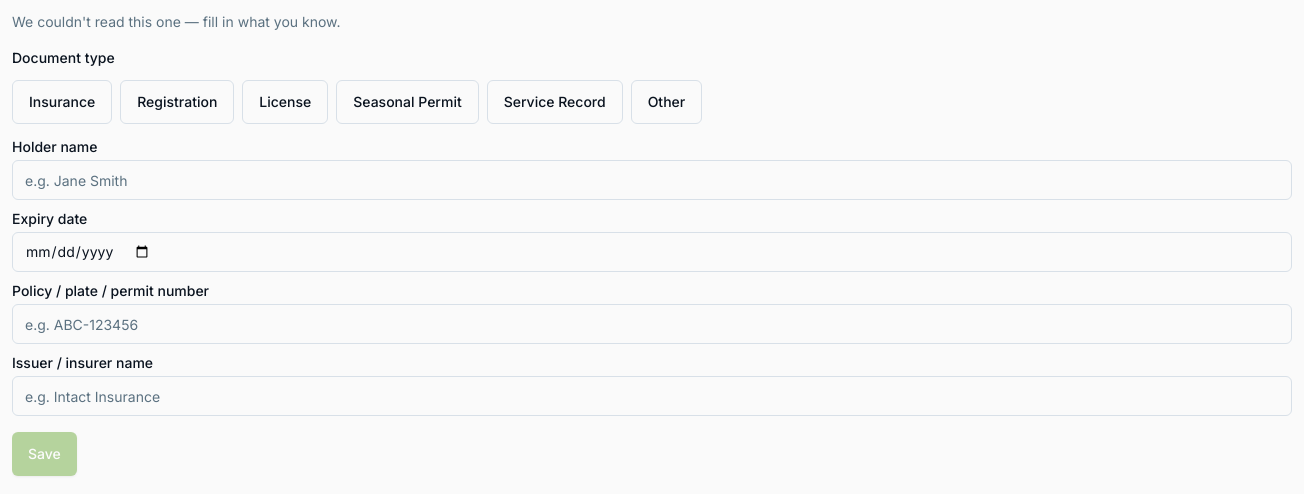
Test: ManualEntryForm › Save is enabled after a type is selected
This screenshot has width=1304, height=494.
Click the button "Insurance": (62, 102) [12, 80, 112, 124]
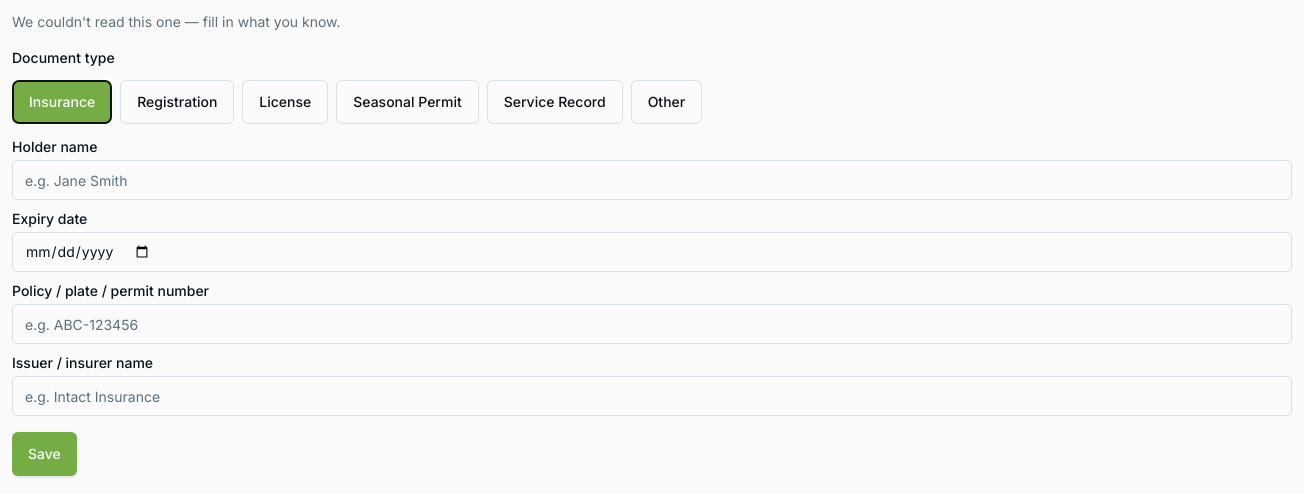
Check: the button "Save" is enabled, box [12, 432, 77, 476]
